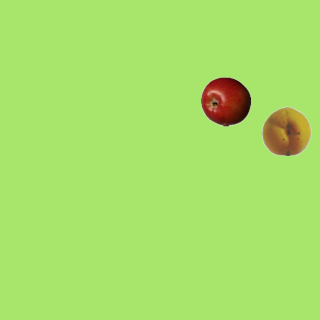Apple Braeburn: (200, 76, 250, 126)
Peach 2: (261, 105, 311, 155)
